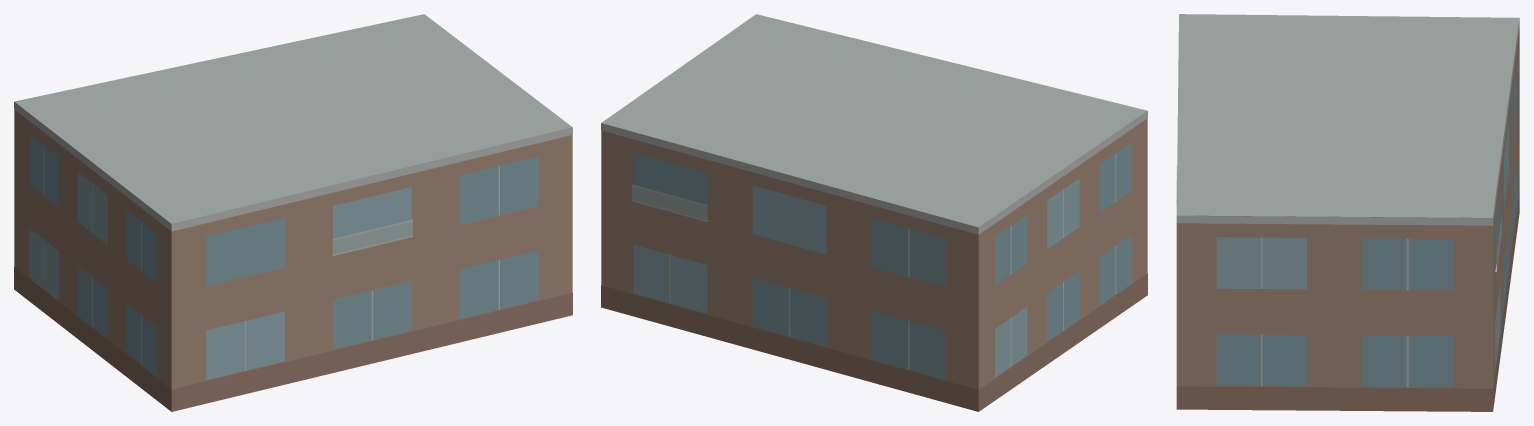
The model's file is survey-upis-32657395.glb.
3 views of the same model, side by side, from view 1: azimuth 30°, elevation 25°; view 2: azimuth 150°, elevation 25°; view 3: azimuth 270°, elevation 25° (orthographic). The views are drawn at different scales.
Visible parts, largest first — view 1: survey-upis-32657395.tmp; view 2: survey-upis-32657395.tmp; view 3: survey-upis-32657395.tmp.
Part boxes in pixels (x1,y1,x2,y2): survey-upis-32657395.tmp: (14,14,572,411); survey-upis-32657395.tmp: (601,14,1147,411); survey-upis-32657395.tmp: (1176,14,1519,411).
Bounding box in the file's own units: 13.77 × 6.1 × 9.8.
